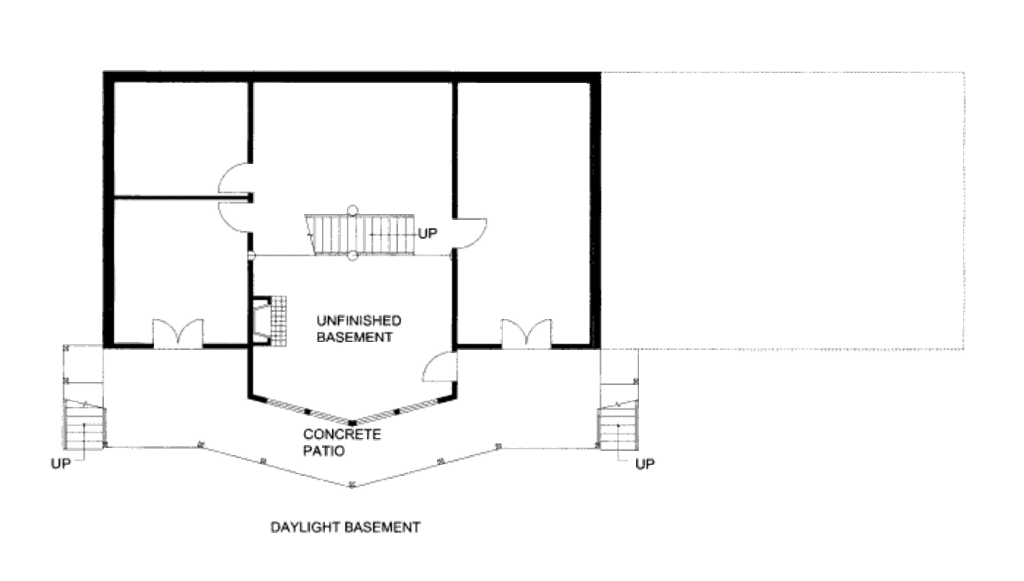door: (493, 319, 561, 354), (142, 314, 206, 351), (416, 348, 461, 387), (215, 199, 262, 233), (212, 160, 255, 193), (452, 213, 487, 251)
stairs: (292, 210, 438, 261), (54, 341, 115, 457), (595, 346, 647, 458)
window: (341, 396, 400, 436), (382, 396, 447, 426), (306, 405, 357, 435), (261, 393, 319, 419)
